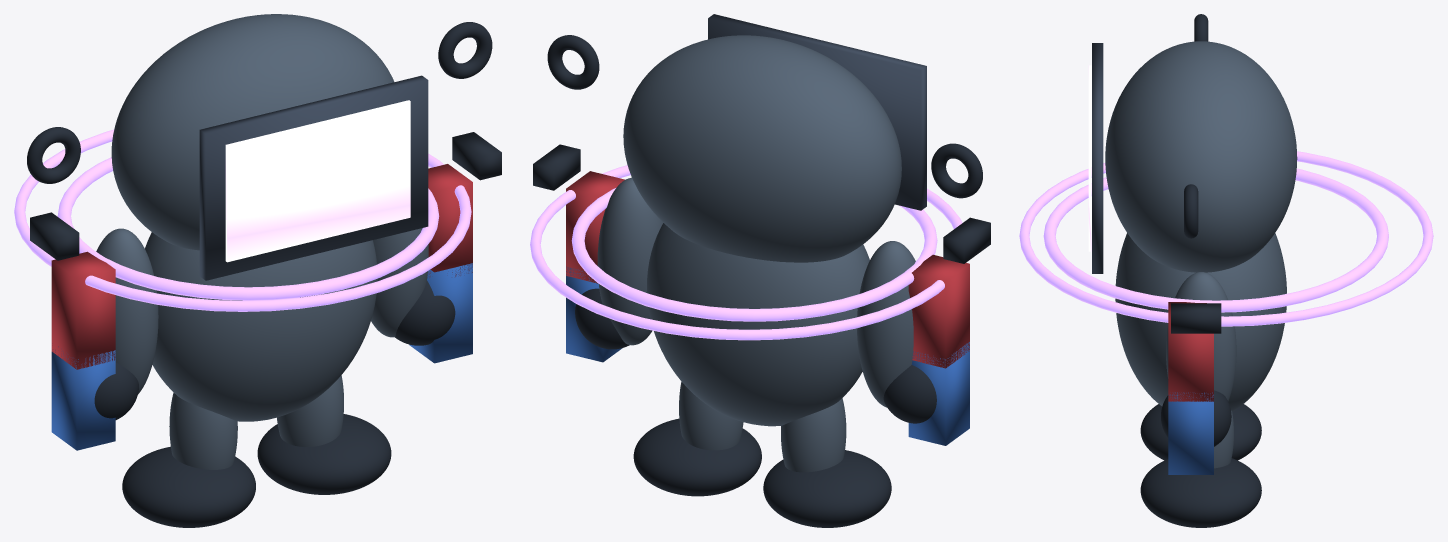
The model's file is magnet.glb.
3 renders of one model, left to right at view 1: azimuth 30°, elevation 25°; view 2: azimuth 150°, elevation 25°; view 3: azimuth 270°, elevation 25°, orthographic. The views are drawn at different scales.
Visible parts, largest first — view 1: head, body, face_screen, face_frame, foot_L, field_ring_1, foot_R, magnet_arm_L_red, field_ring_0, arm_L, magnet_arm_L_blue, leg_L (+10 smaller); view 2: head, body, face_frame, foot_L, field_ring_1, field_ring_0, foot_R, arm_R, arm_L, magnet_arm_L_red, magnet_arm_L_blue, leg_L (+9 smaller); view 3: head, body, field_ring_1, field_ring_0, foot_R, magnet_arm_R_blue, magnet_arm_R_red, face_frame, arm_R, foot_L, floating_bolt_1, hand_R (+3 smaller).
Boxes of the visible parts, x1=… form: head: x1=111, y1=14, x2=394, y2=250; body: x1=145, y1=232, x2=377, y2=421; face_screen: x1=225, y1=100, x2=410, y2=262; face_frame: x1=199, y1=75, x2=428, y2=280; foot_L: x1=122, y1=446, x2=255, y2=527; field_ring_1: x1=14, y1=129, x2=471, y2=311; foot_R: x1=257, y1=414, x2=391, y2=494; magnet_arm_L_red: x1=51, y1=251, x2=115, y2=369; field_ring_0: x1=57, y1=157, x2=439, y2=300; arm_L: x1=96, y1=228, x2=158, y2=394; magnet_arm_L_blue: x1=51, y1=346, x2=115, y2=450; leg_L: x1=169, y1=392, x2=237, y2=469; head: x1=623, y1=35, x2=901, y2=262; body: x1=647, y1=223, x2=869, y2=426; face_frame: x1=708, y1=14, x2=926, y2=210; foot_L: x1=763, y1=450, x2=891, y2=527; field_ring_1: x1=530, y1=165, x2=962, y2=340; field_ring_0: x1=571, y1=188, x2=937, y2=321; foot_R: x1=633, y1=418, x2=761, y2=496; arm_R: x1=597, y1=177, x2=663, y2=345; arm_L: x1=857, y1=241, x2=915, y2=407; magnet_arm_L_red: x1=908, y1=254, x2=969, y2=368; magnet_arm_L_blue: x1=908, y1=342, x2=969, y2=445; leg_L: x1=781, y1=398, x2=846, y2=472; head: x1=1105, y1=41, x2=1297, y2=272; body: x1=1115, y1=233, x2=1286, y2=411; field_ring_1: x1=1019, y1=151, x2=1433, y2=326; field_ring_0: x1=1043, y1=168, x2=1388, y2=312; foot_R: x1=1140, y1=458, x2=1261, y2=527; magnet_arm_R_blue: x1=1168, y1=392, x2=1213, y2=474; magnet_arm_R_red: x1=1168, y1=302, x2=1213, y2=401; face_frame: x1=1092, y1=43, x2=1103, y2=273; arm_R: x1=1166, y1=272, x2=1236, y2=401; foot_L: x1=1140, y1=404, x2=1261, y2=460; floating_bolt_1: x1=1171, y1=303, x2=1221, y2=333; hand_R: x1=1161, y1=390, x2=1231, y2=446.
Bounding box in the file's own units: 1.09 × 1.08 × 0.9421.
